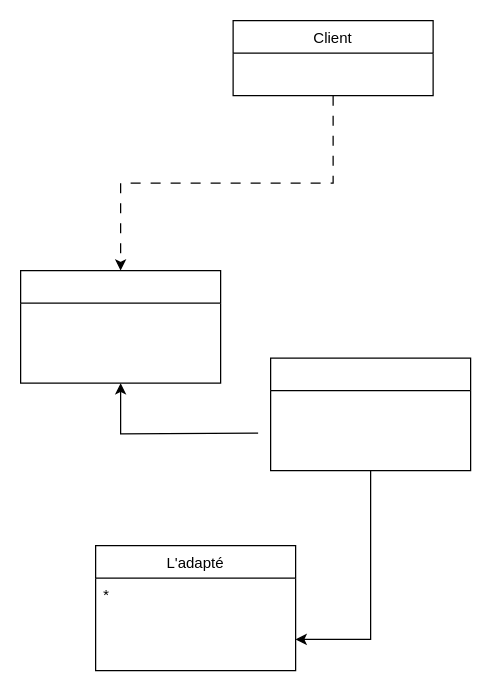
The diagram is 491 pixels wide and 691 high, and some of its shapes have lost their labels. Each missing label, with the centre of its shape:
Interface: pixel 120 326
L'adapteur: pixel 370 414
